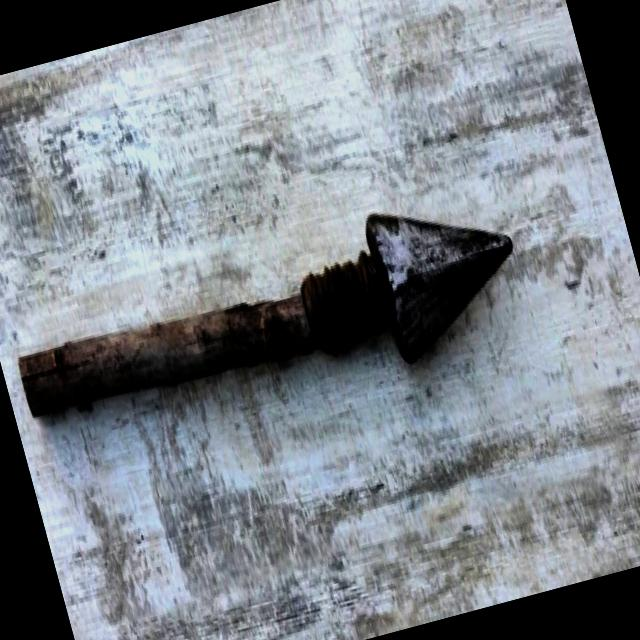spear: (0, 99, 562, 511)
